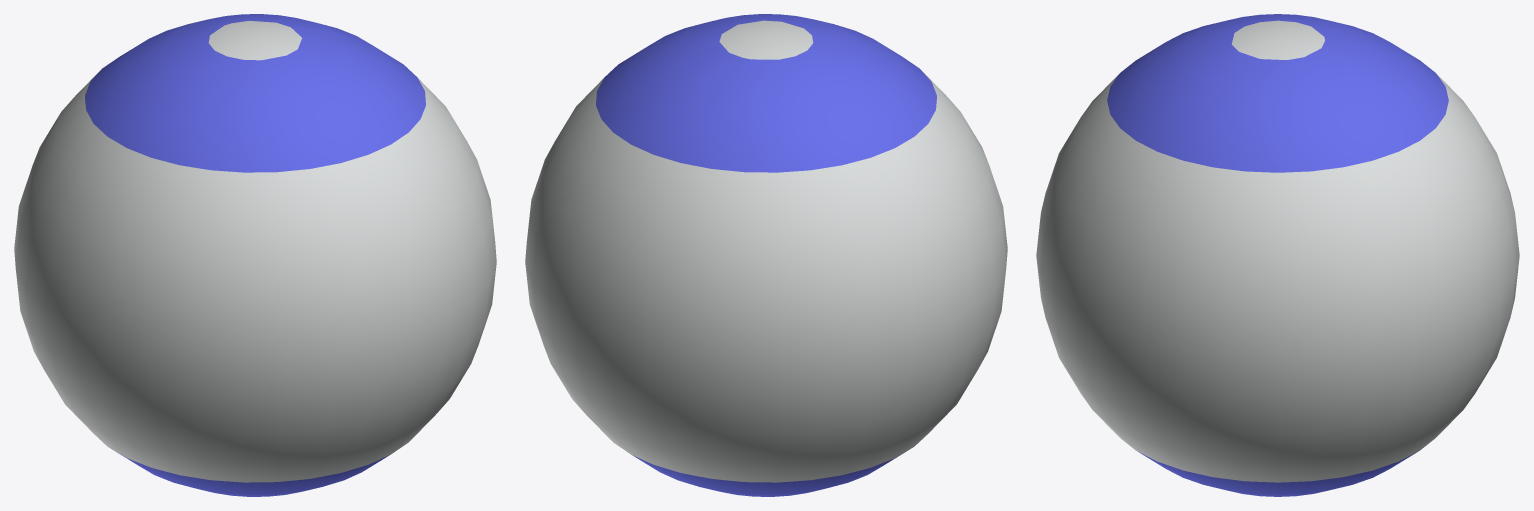
File: uniballPOLY.fbx
The picture shows the model from 3 angles, left to right: view 1: azimuth 30°, elevation 25°; view 2: azimuth 150°, elevation 25°; view 3: azimuth 270°, elevation 25°; orthographic projection.
Visible parts, largest first — view 1: Sphere; view 2: Sphere; view 3: Sphere.
Boxes of the visible parts, x1,y1,x2,y2 form: Sphere: (14, 14, 496, 496); Sphere: (525, 14, 1007, 496); Sphere: (1036, 14, 1519, 496).
Bounding box in the file's own units: 200 × 200 × 200.
